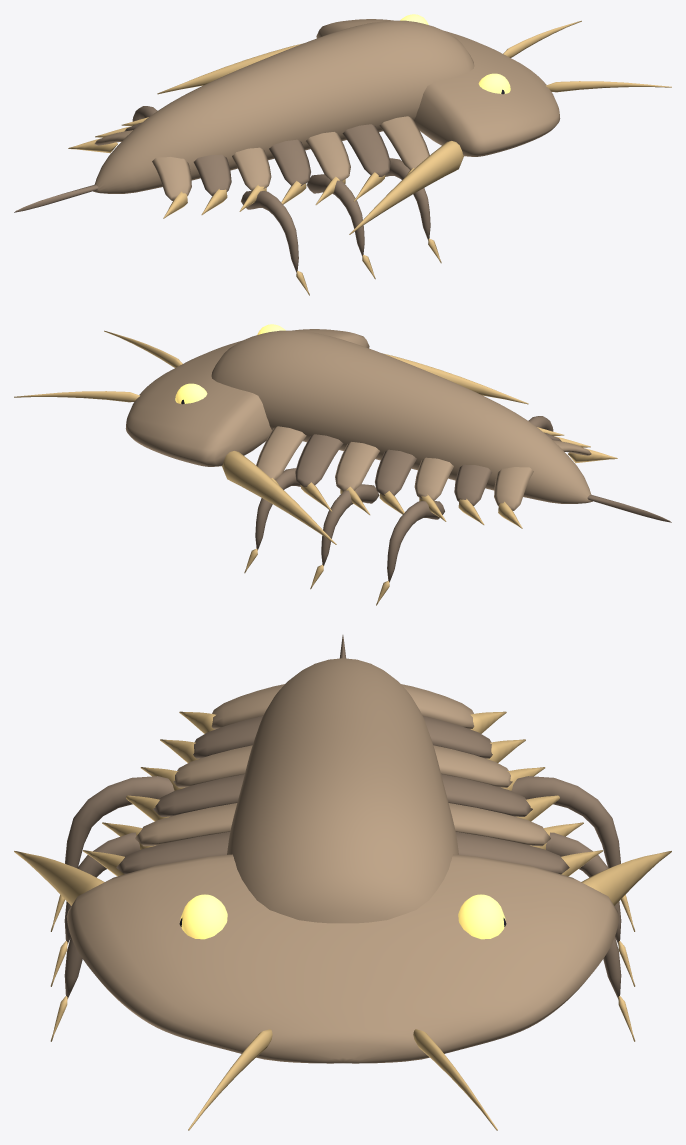
File: cambrian_trilobite.glb
3 renders of one model, top to bottom at view 1: azimuth 30°, elevation 25°; view 2: azimuth 150°, elevation 25°; view 3: azimuth 270°, elevation 25°, orthographic. The views are drawn at different scales.
Parts seen in each view (by area): view 1: Trilo_AxialLobe, Cephalon_Shield, GenalSpine_R, PleuraPlate_1, PleuraPlate_0, PleuraPlate_6, PleuraPlate_2, PleuraPlate_3, Leg5_Mesh, PleuraPlate_4, Leg3_Mesh, PleuraPlate_5 (+6 smaller); view 2: Trilo_AxialLobe, Cephalon_Shield, GenalSpine_L, PleuraPlate_1, PleuraPlate_0, PleuraPlate_6, PleuraPlate_2, PleuraPlate_3, Leg4_Mesh, PleuraPlate_4, Leg2_Mesh, PleuraPlate_5 (+6 smaller); view 3: Cephalon_Shield, Trilo_AxialLobe, PleuraPlate_2, PleuraPlate_1, PleuraPlate_3, PleuraPlate_4, PleuraPlate_5, PleuraPlate_6, Leg4_Mesh, Leg5_Mesh, GenalSpine_L, GenalSpine_R (+6 smaller).
Boxes of the visible parts, bbox=[...] form: Trilo_AxialLobe: bbox=[93, 20, 474, 193]; Cephalon_Shield: bbox=[316, 19, 560, 156]; GenalSpine_R: bbox=[349, 141, 463, 234]; PleuraPlate_1: bbox=[342, 124, 390, 176]; PleuraPlate_0: bbox=[379, 116, 429, 170]; PleuraPlate_6: bbox=[94, 130, 191, 200]; PleuraPlate_2: bbox=[306, 132, 350, 180]; PleuraPlate_3: bbox=[269, 139, 310, 185]; Leg5_Mesh: bbox=[241, 191, 298, 272]; PleuraPlate_4: bbox=[232, 147, 271, 190]; Leg3_Mesh: bbox=[306, 174, 364, 255]; PleuraPlate_5: bbox=[124, 122, 231, 195]; Trilo_AxialLobe: bbox=[211, 330, 592, 503]; Cephalon_Shield: bbox=[125, 329, 369, 466]; GenalSpine_L: bbox=[222, 451, 336, 544]; PleuraPlate_1: bbox=[295, 434, 343, 486]; PleuraPlate_0: bbox=[256, 426, 306, 480]; PleuraPlate_6: bbox=[494, 440, 591, 510]; PleuraPlate_2: bbox=[335, 442, 379, 490]; PleuraPlate_3: bbox=[375, 449, 416, 495]; Leg4_Mesh: bbox=[387, 501, 444, 582]; PleuraPlate_4: bbox=[414, 457, 453, 500]; Leg2_Mesh: bbox=[321, 484, 379, 565]; PleuraPlate_5: bbox=[454, 432, 561, 505]; Cephalon_Shield: bbox=[66, 854, 619, 1063]; Trilo_AxialLobe: bbox=[227, 658, 458, 923]; PleuraPlate_2: bbox=[135, 803, 550, 846]; PleuraPlate_1: bbox=[116, 832, 569, 874]; PleuraPlate_3: bbox=[153, 774, 532, 816]; PleuraPlate_4: bbox=[173, 745, 512, 787]; PleuraPlate_5: bbox=[193, 716, 492, 758]; PleuraPlate_6: bbox=[211, 684, 474, 729]; Leg4_Mesh: bbox=[511, 776, 620, 867]; Leg5_Mesh: bbox=[65, 776, 174, 867]; GenalSpine_L: bbox=[581, 851, 671, 905]; GenalSpine_R: bbox=[14, 851, 104, 905].
Bounding box in the file's own units: 2.98 × 0.7691 × 1.62.
